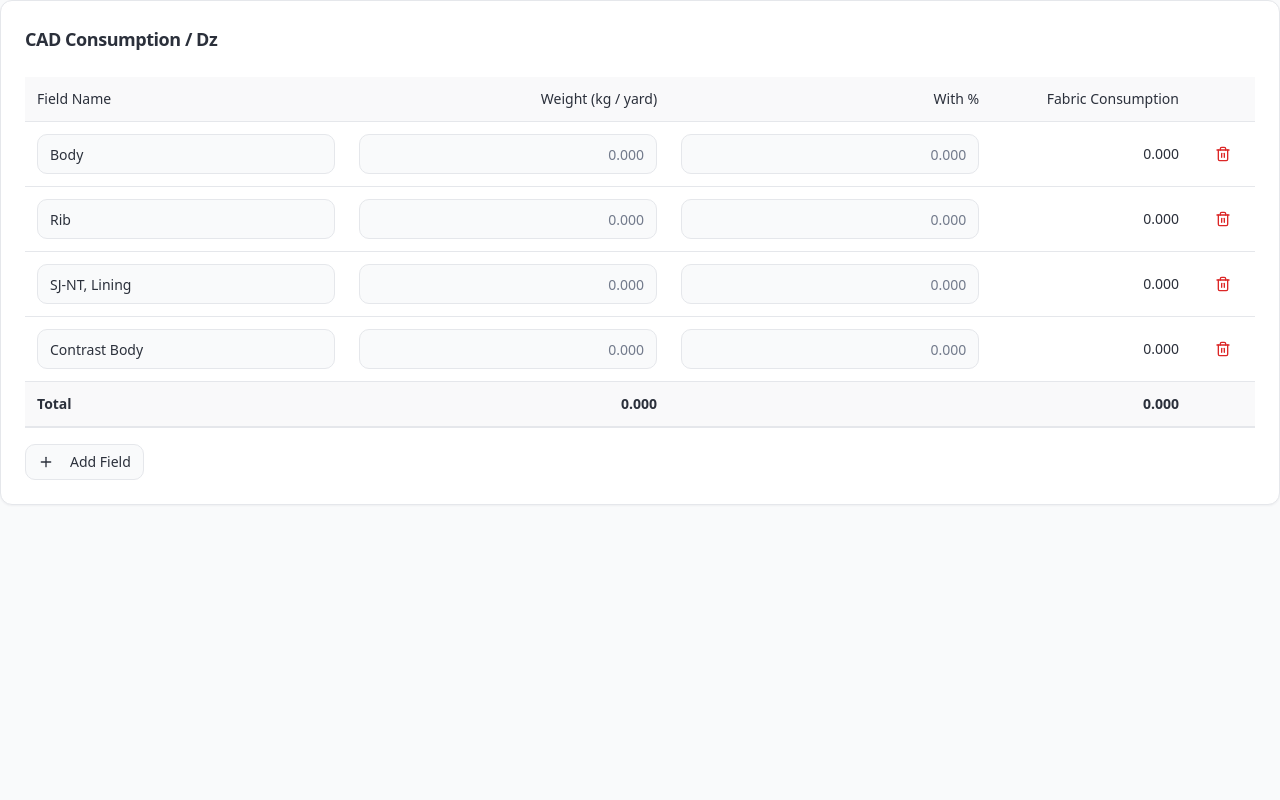
CadConsumptionSectionCreate Component › adds a new row when clicking Add Field
The width and height of the screenshot is (1280, 800).
Click the button "Add Field": (84, 462) [25,444,144,480]
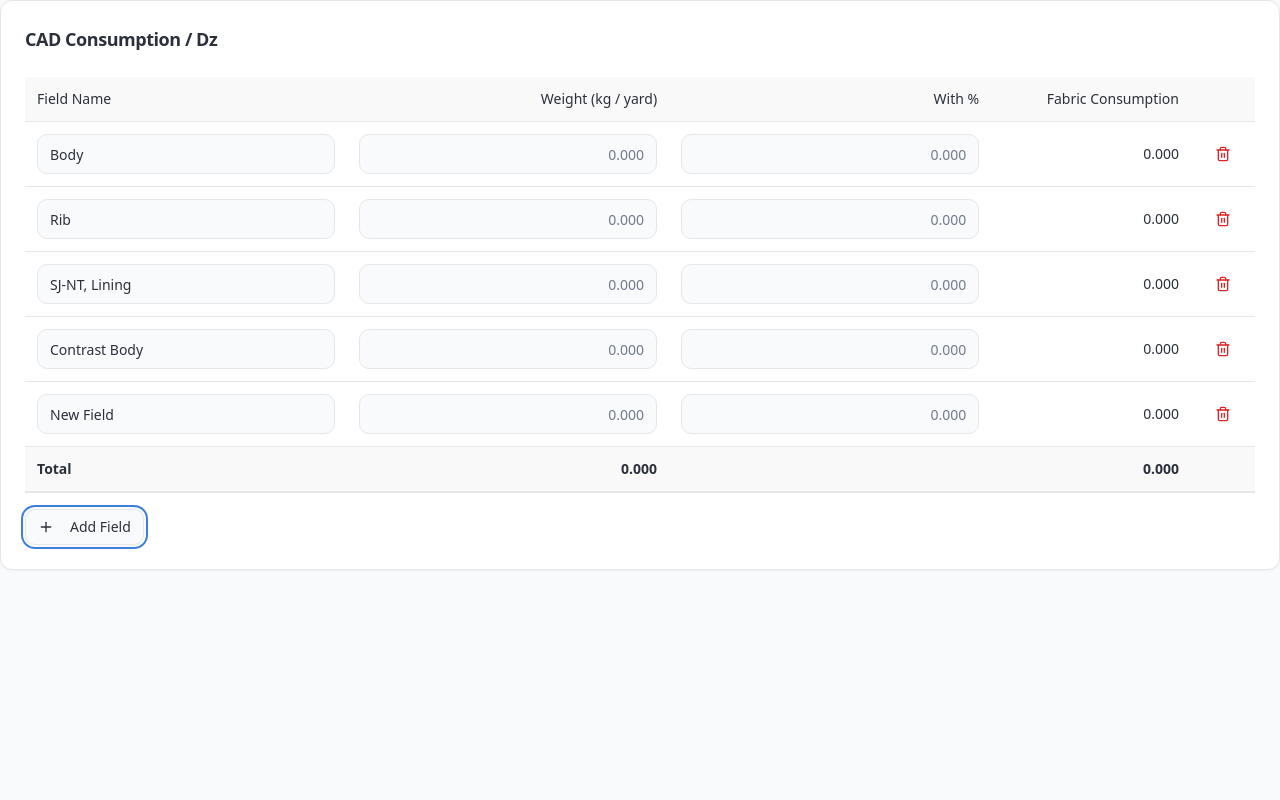
Now the 5th field showing "New Field" is shown, box [37,394,335,434]
